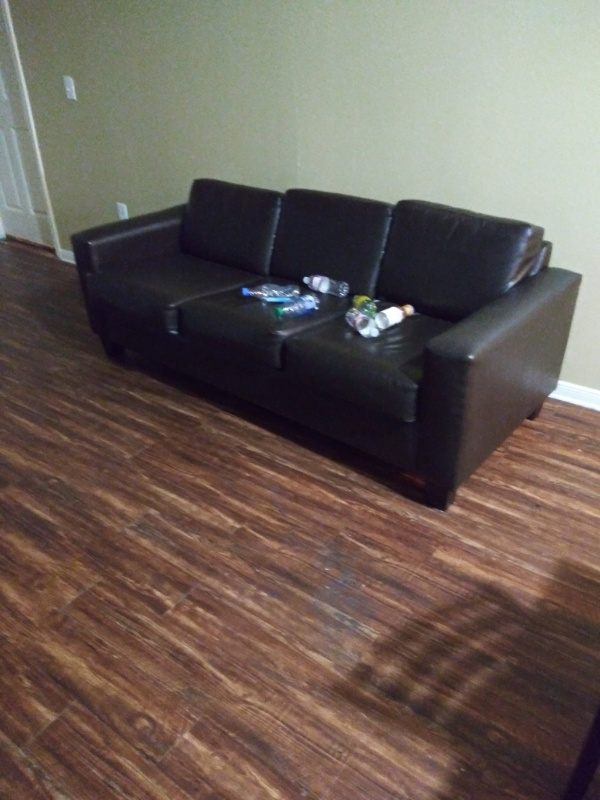bottle: (300, 265, 353, 301), (238, 280, 303, 307), (342, 306, 383, 344), (269, 292, 324, 320), (376, 298, 419, 332), (349, 291, 381, 313)
